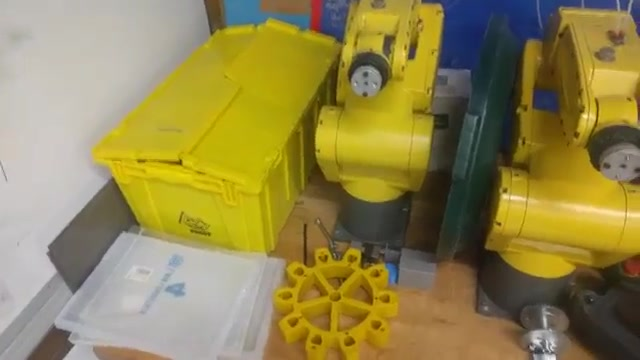gear: (270, 248, 396, 360)
